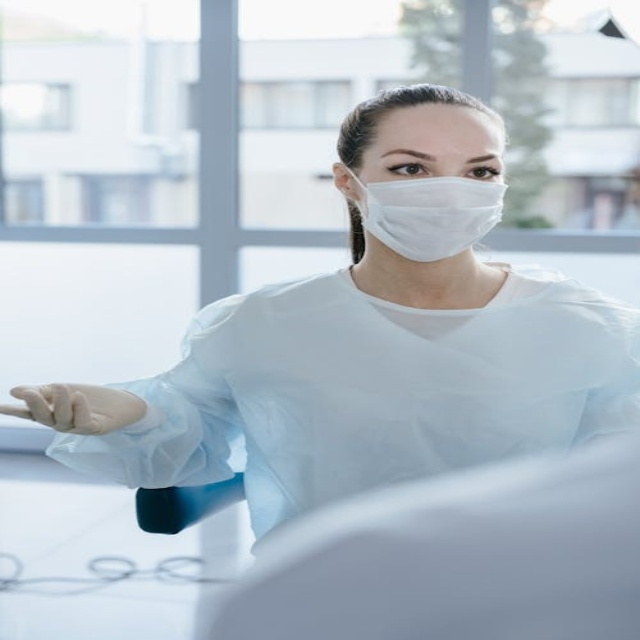Guantes: (3, 381, 154, 436)
Mascara: (345, 165, 506, 261)
Sin_gafas: (370, 143, 506, 183)
